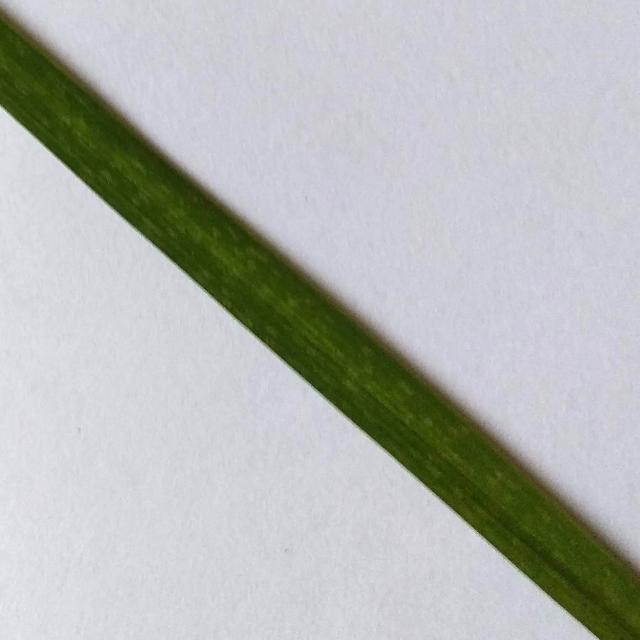Rice_Healthy: (0, 11, 640, 640)
